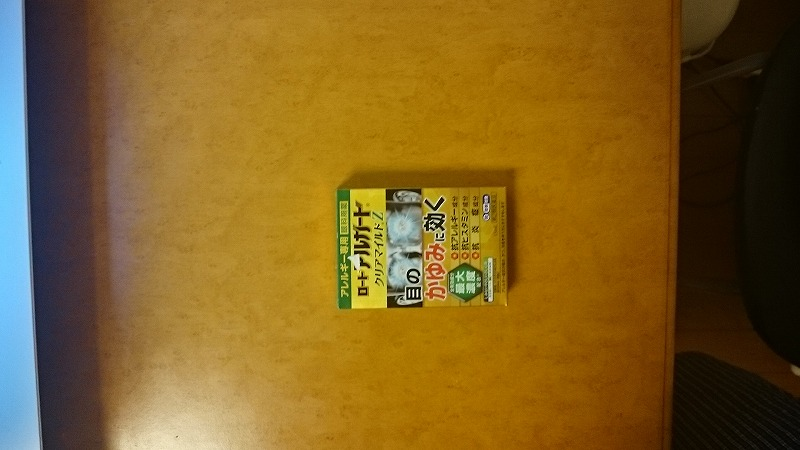C: (334, 181, 511, 317)
